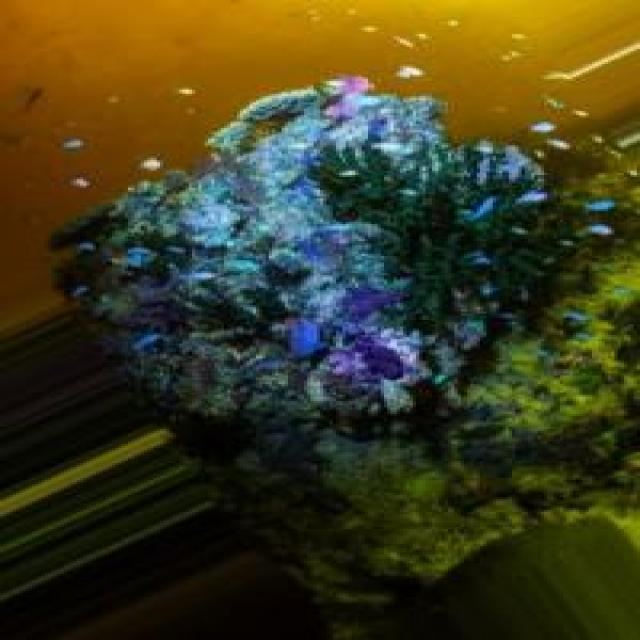Healthy: (52, 80, 640, 532)
